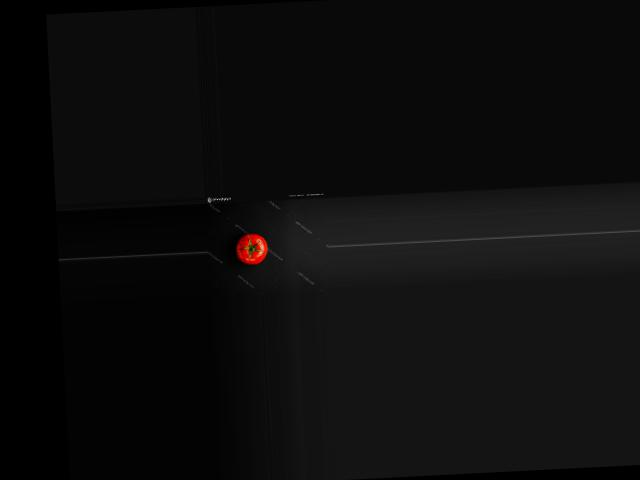tomato: (235, 232, 269, 265)
